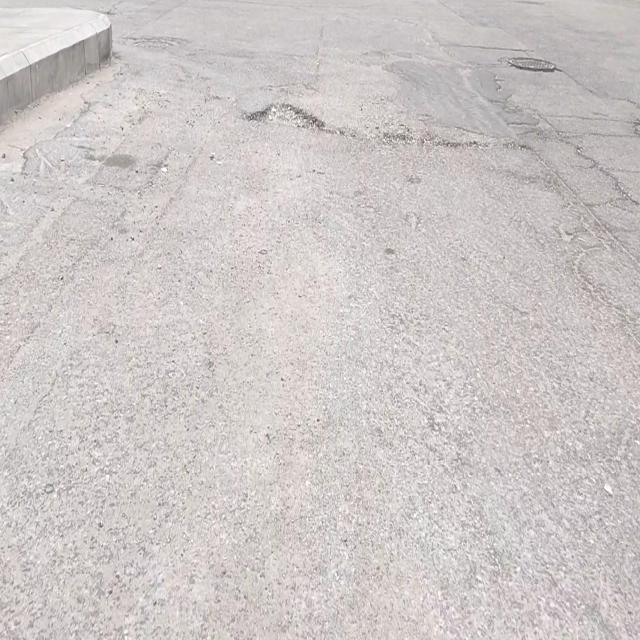Potholes: (245, 97, 323, 133)
